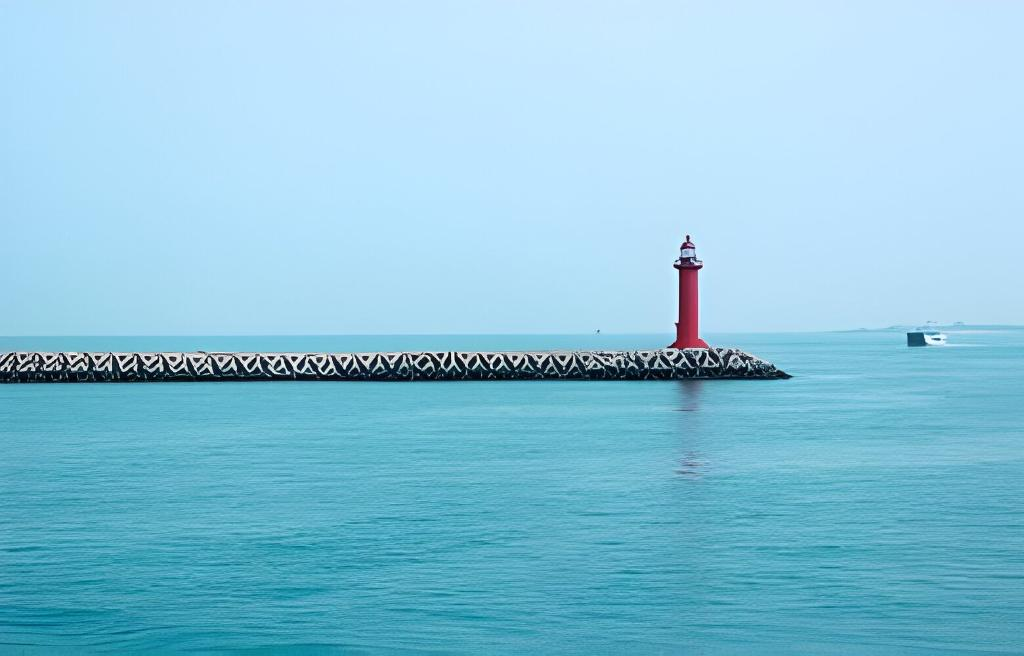PassengerShip: (906, 316, 954, 349)
